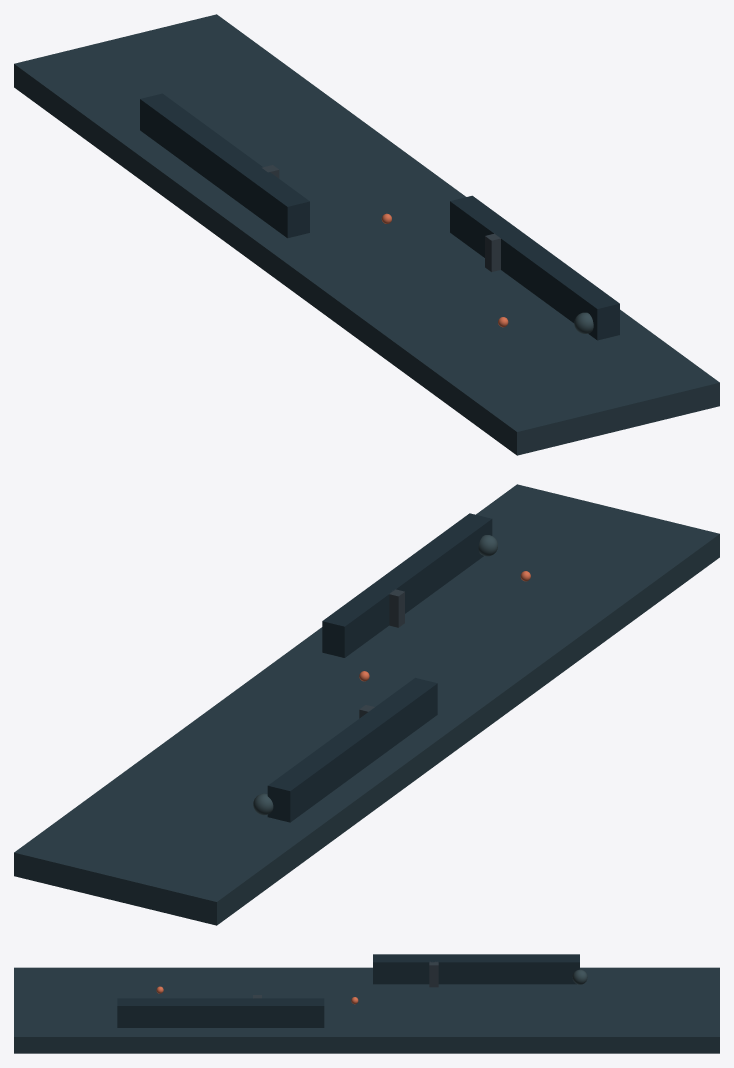
The model's file is blacksmoker-run.collision.glb.
3 renders of one model, top to bottom at view 1: azimuth 30°, elevation 25°; view 2: azimuth 150°, elevation 25°; view 3: azimuth 270°, elevation 25°, orthographic. The views are drawn at different scales.
Visible parts, largest first — view 1: smoker-seabed, smoker-west-wall, smoker-east-wall; view 2: smoker-seabed, smoker-west-wall, smoker-east-wall; view 3: smoker-seabed, smoker-east-wall, smoker-west-wall, smoker-west-chimney, smoker-west-root.
Boxes of the visible parts, x1=… form: smoker-seabed: x1=14, y1=14, x2=719, y2=455; smoker-west-wall: x1=140, y1=93, x2=309, y2=238; smoker-east-wall: x1=450, y1=195, x2=619, y2=340; smoker-seabed: x1=14, y1=484, x2=719, y2=925; smoker-west-wall: x1=267, y1=677, x2=437, y2=822; smoker-east-wall: x1=322, y1=513, x2=492, y2=657; smoker-seabed: x1=14, y1=967, x2=719, y2=1053; smoker-east-wall: x1=117, y1=998, x2=324, y2=1027; smoker-west-wall: x1=373, y1=954, x2=579, y2=984; smoker-west-chimney: x1=429, y1=961, x2=438, y2=987; smoker-west-root: x1=572, y1=969, x2=587, y2=984.
Bounding box in the file's own units: 54 × 14 × 232.
